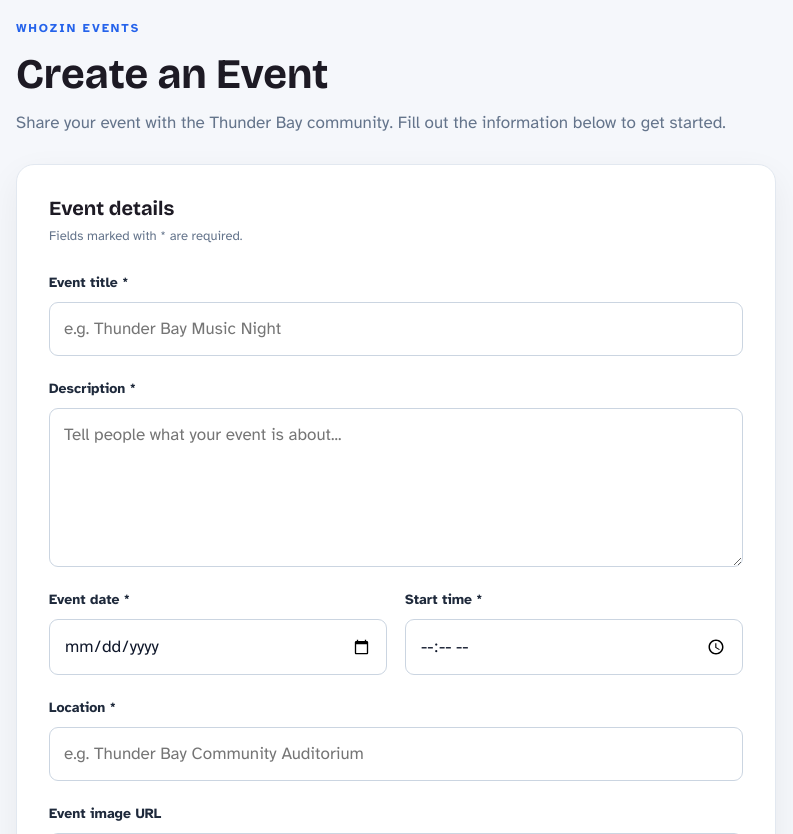
Test: Create Event form › submits valid event information
The image size is (793, 834).
In the field labelled "Event title *": (396,329) [49,302,743,356], type "Music Night"
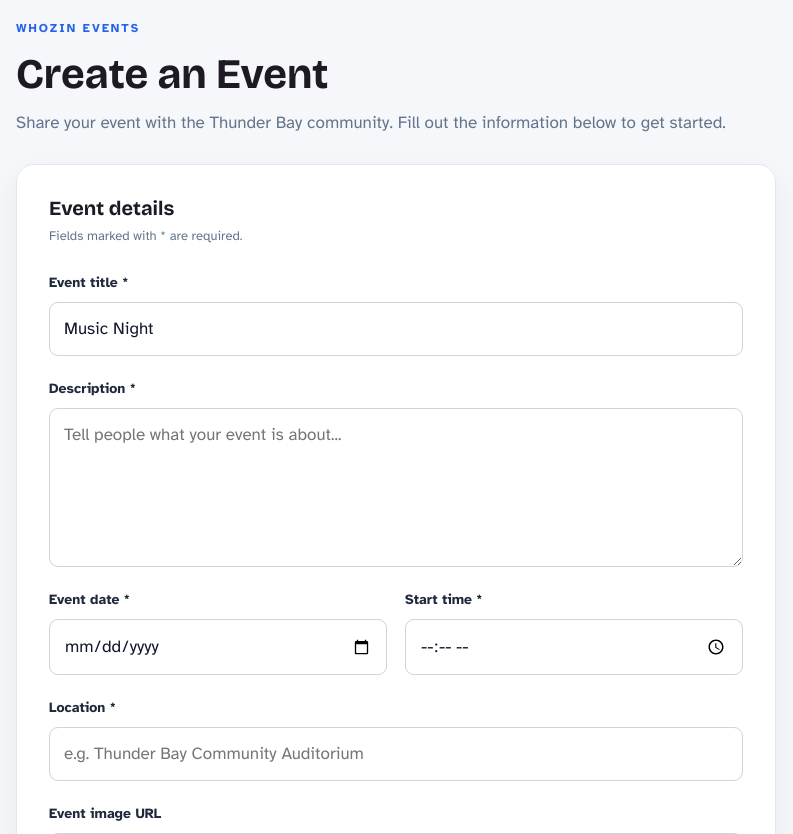
In the text box labelled "Description *": (396,488) [49,408,743,567], type "Live music in Thunder Bay"
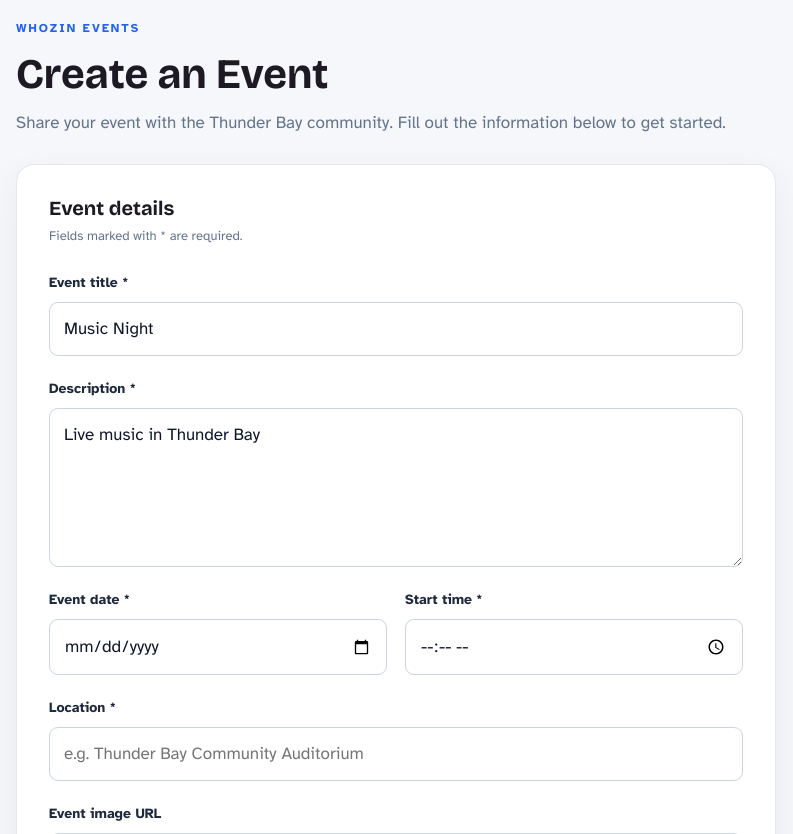
In the date field labelled "Event date *": (218,647) [49,619,387,675], type "2099-11-14"
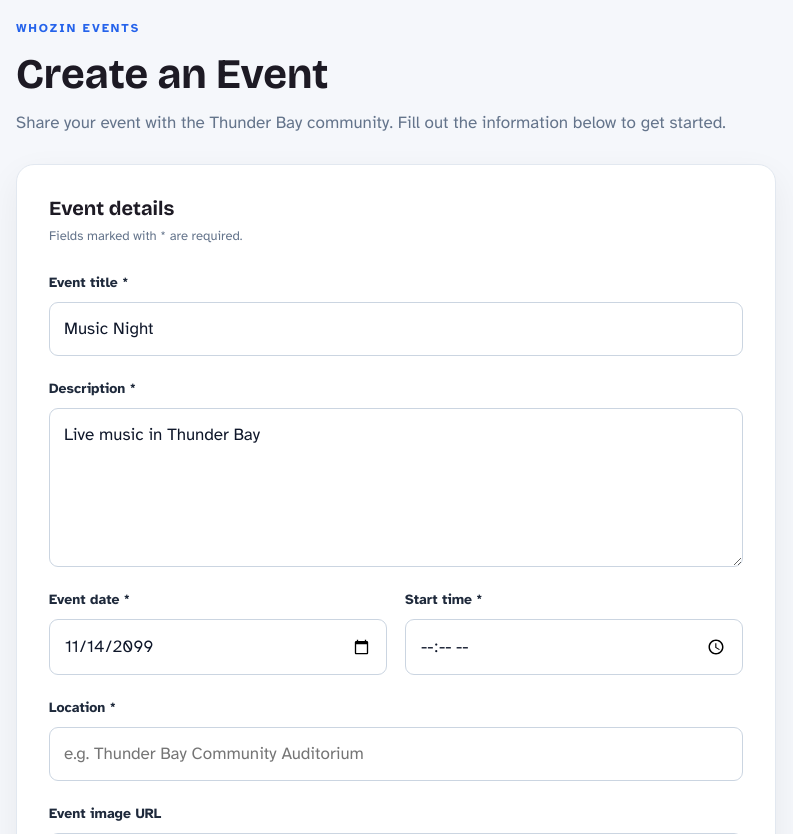
In the time field labelled "Start time *": (574,647) [405,619,743,675], type "19:00"
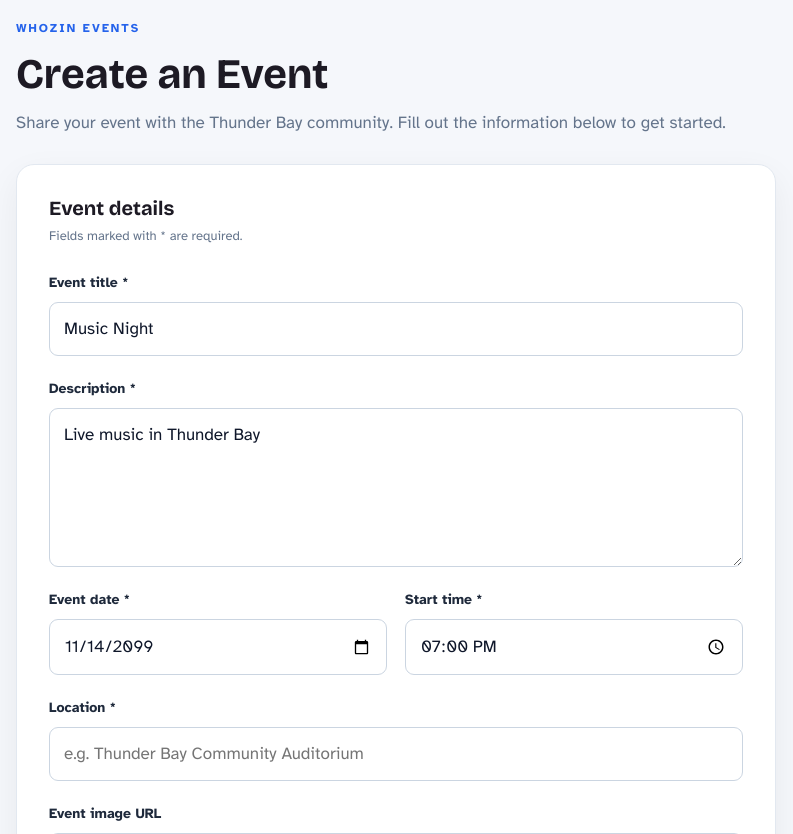
In the field labelled "Location *": (396,754) [49,727,743,781], type "Thunder Bay"
(page scrolled)
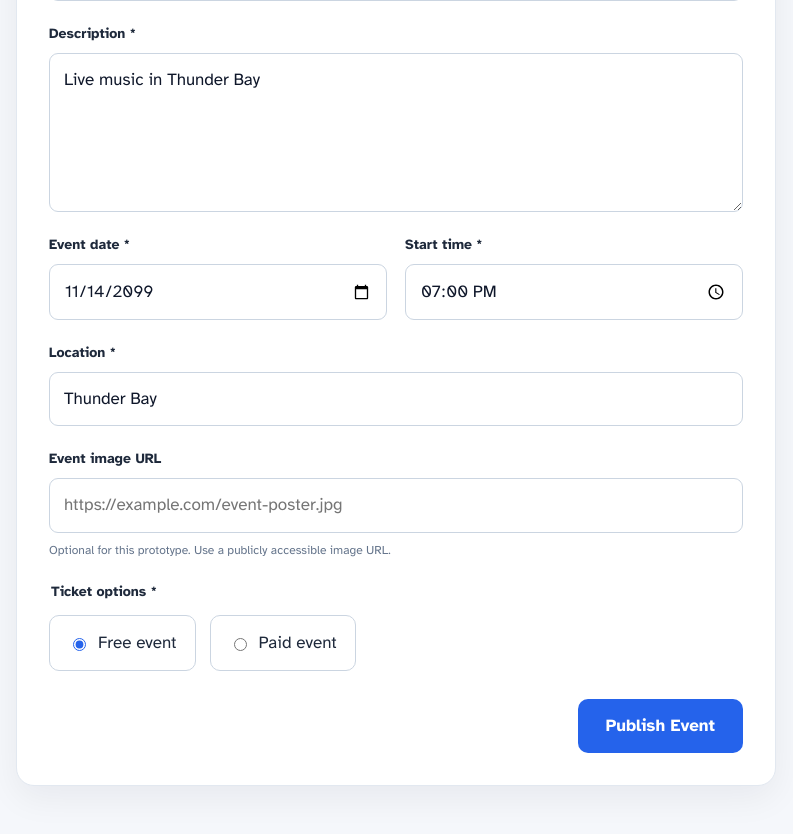
Click the button "Publish Event": (660,726) [578,699,743,753]
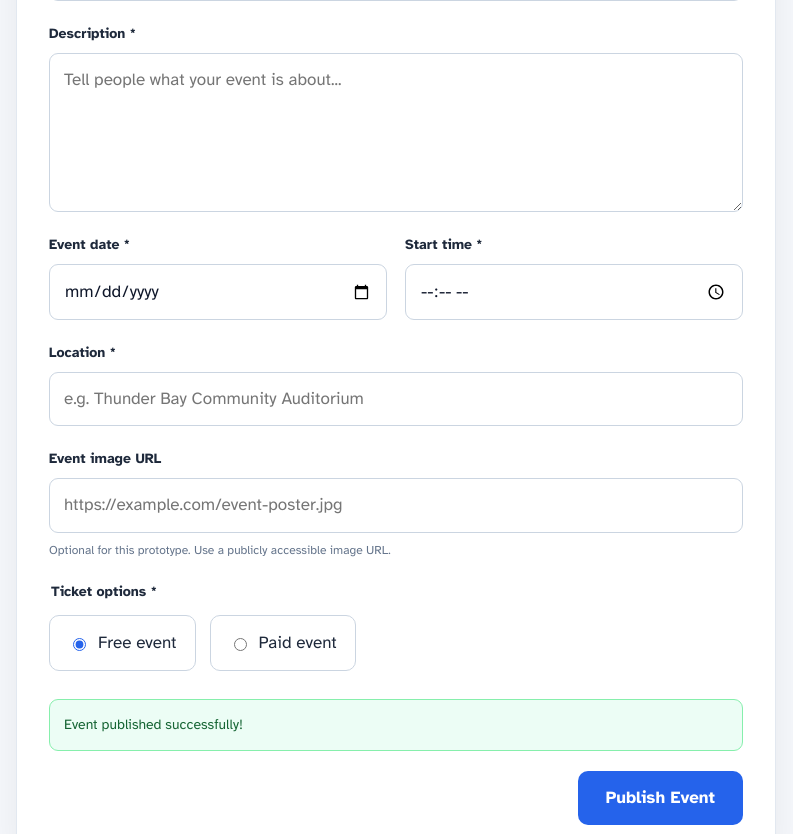
Expected: the text "Event published successfully!" is shown, [49,699,743,751]
